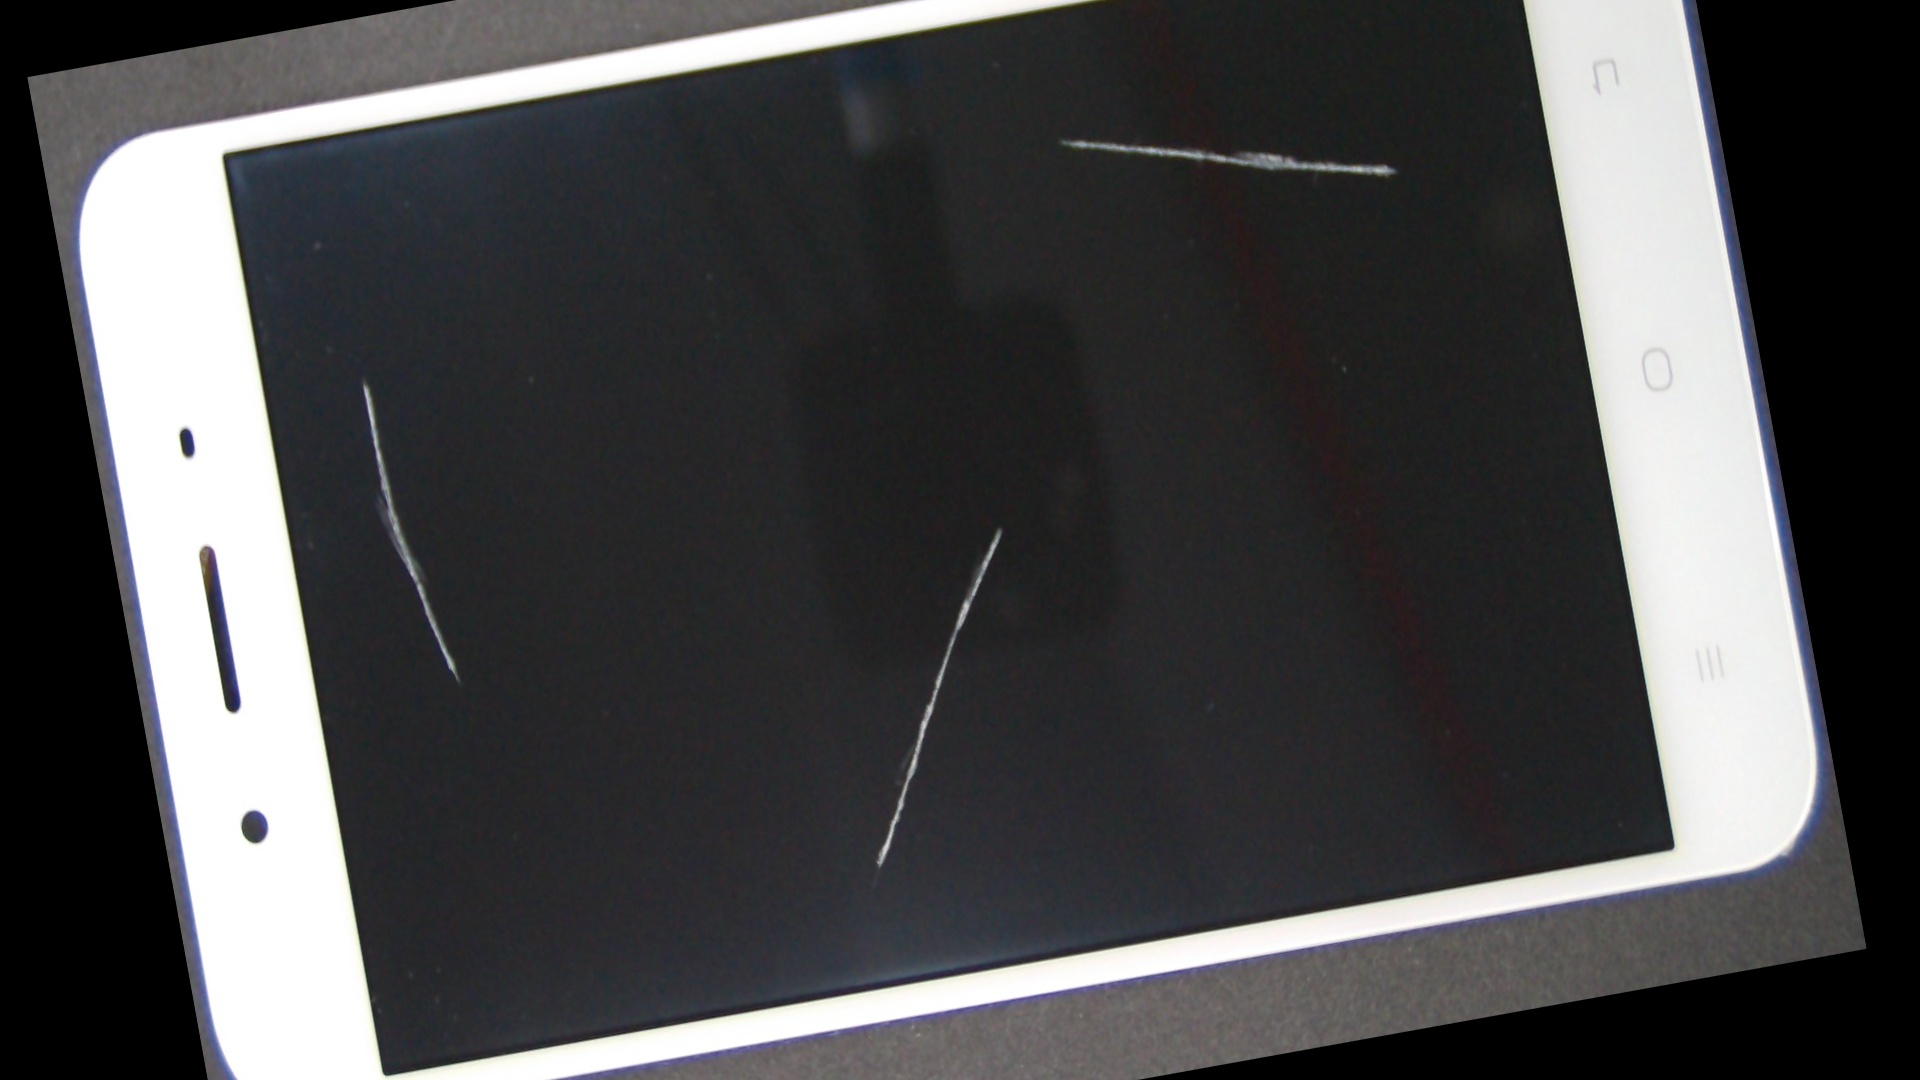oil: (514, 145, 1486, 906), (542, 0, 1573, 348), (195, 179, 530, 580)
